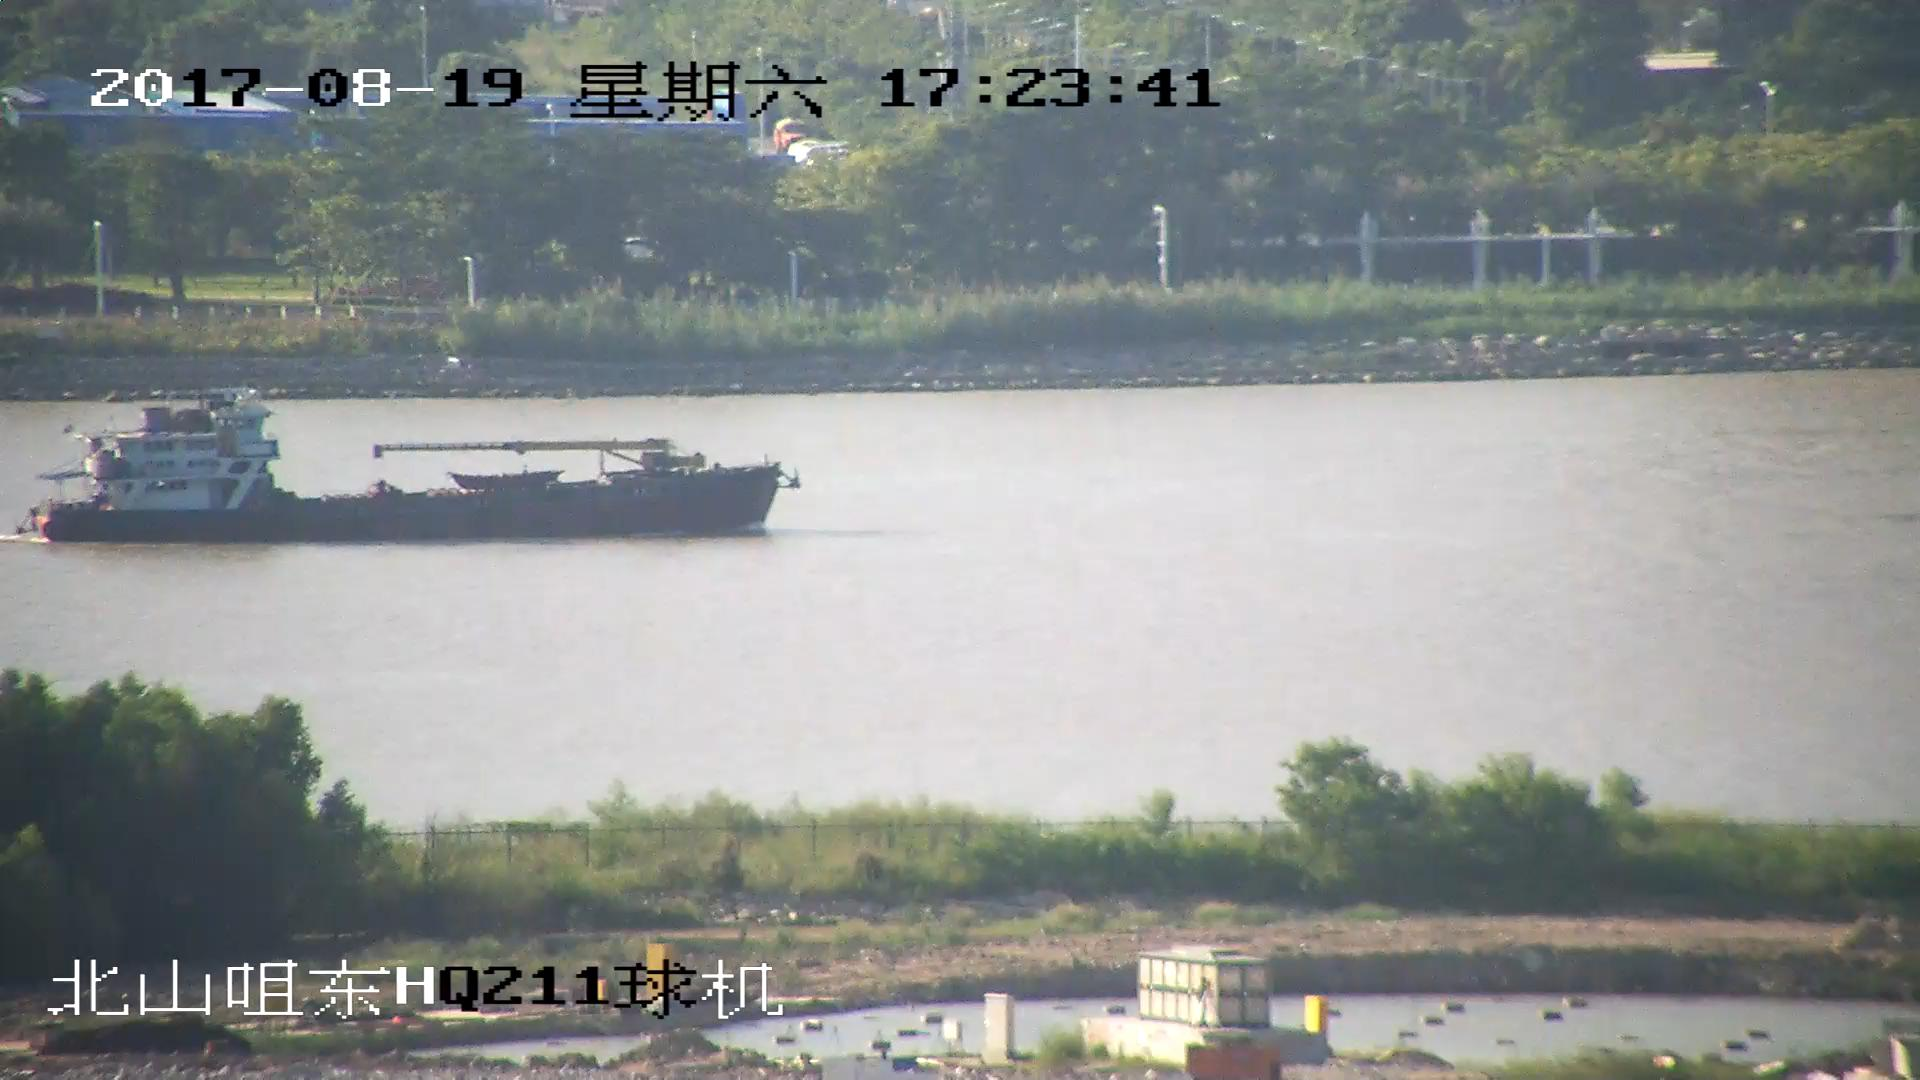bulk cargo carrier: (24, 397, 798, 543)
